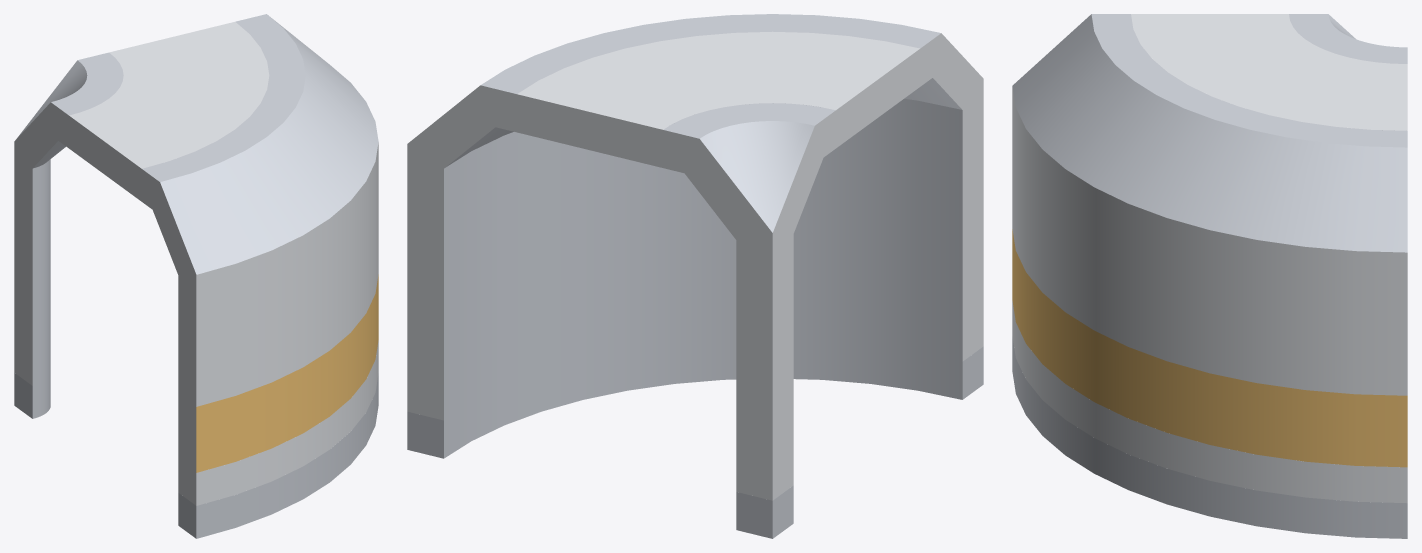
The model's file is corridor_cornerRound.glb.
The picture shows the model from 3 angles, left to right: view 1: azimuth 30°, elevation 25°; view 2: azimuth 150°, elevation 25°; view 3: azimuth 270°, elevation 25°; orthographic projection. The views are drawn at different scales.
Parts seen in each view (by area): view 1: corridor_cornerRound; view 2: corridor_cornerRound; view 3: corridor_cornerRound.
Boxes of the visible parts, left/top/right/bottom form: corridor_cornerRound: left=14, top=14, right=378, bottom=538; corridor_cornerRound: left=407, top=14, right=983, bottom=538; corridor_cornerRound: left=1012, top=14, right=1407, bottom=538.
Bounding box in the file's own units: 1 × 1 × 1.
